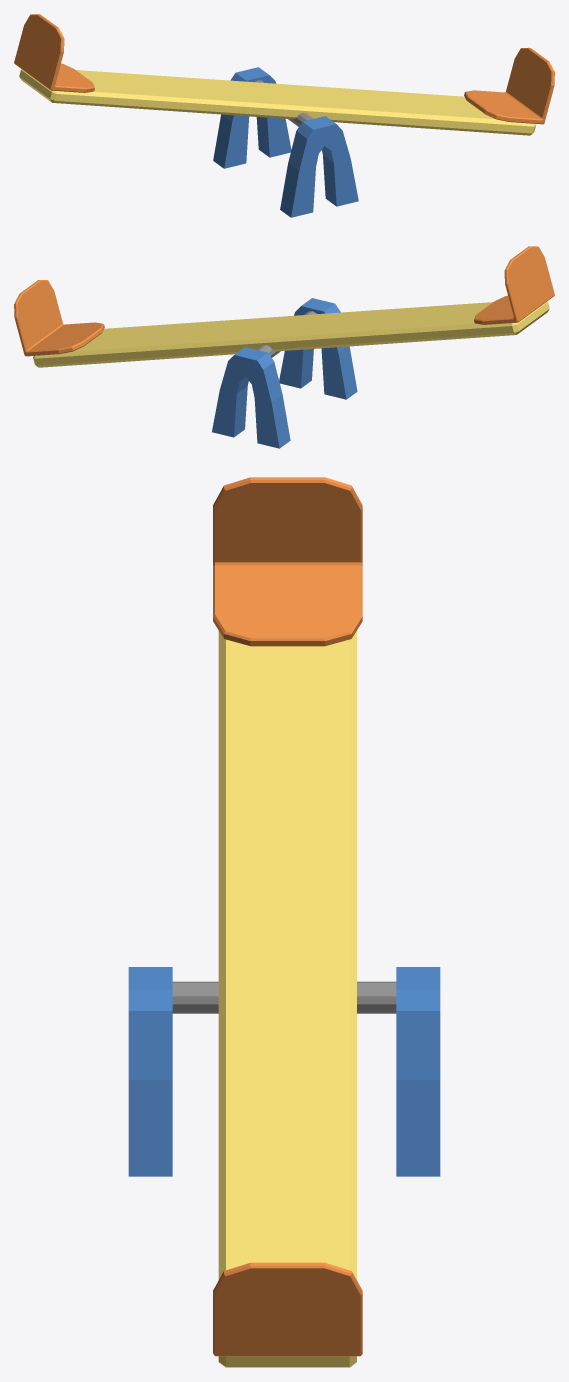
File: Children_swing_1.fbx
3 views of the same model, one above another, from view 1: azimuth 30°, elevation 25°; view 2: azimuth 150°, elevation 25°; view 3: azimuth 270°, elevation 25° (orthographic). The views are drawn at different scales.
Visible parts, largest first — view 1: Children_swing_1; view 2: Children_swing_1; view 3: Children_swing_1.
Part boxes in pixels (x1=…): Children_swing_1: x1=14, y1=14, x2=554, y2=217; Children_swing_1: x1=14, y1=246, x2=554, y2=448; Children_swing_1: x1=128, y1=477, x2=440, y2=1367.
Size of the model in its own units: 397 by 105 by 162.
